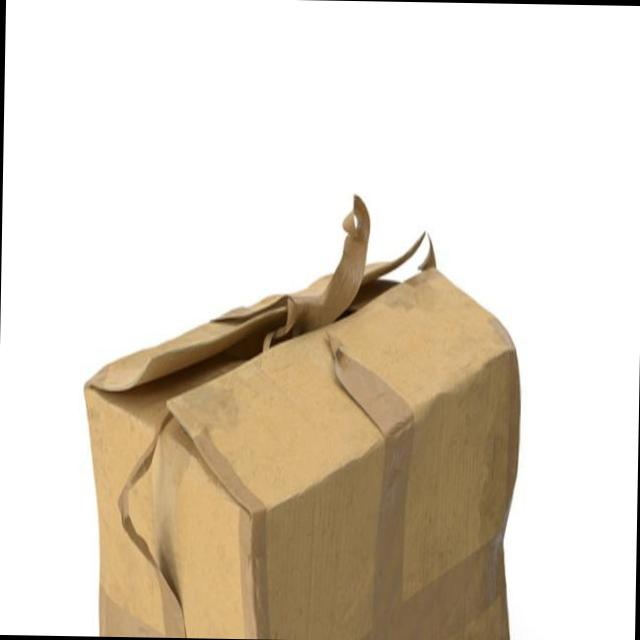box: (84, 190, 519, 639)
tear: (95, 253, 518, 505)
